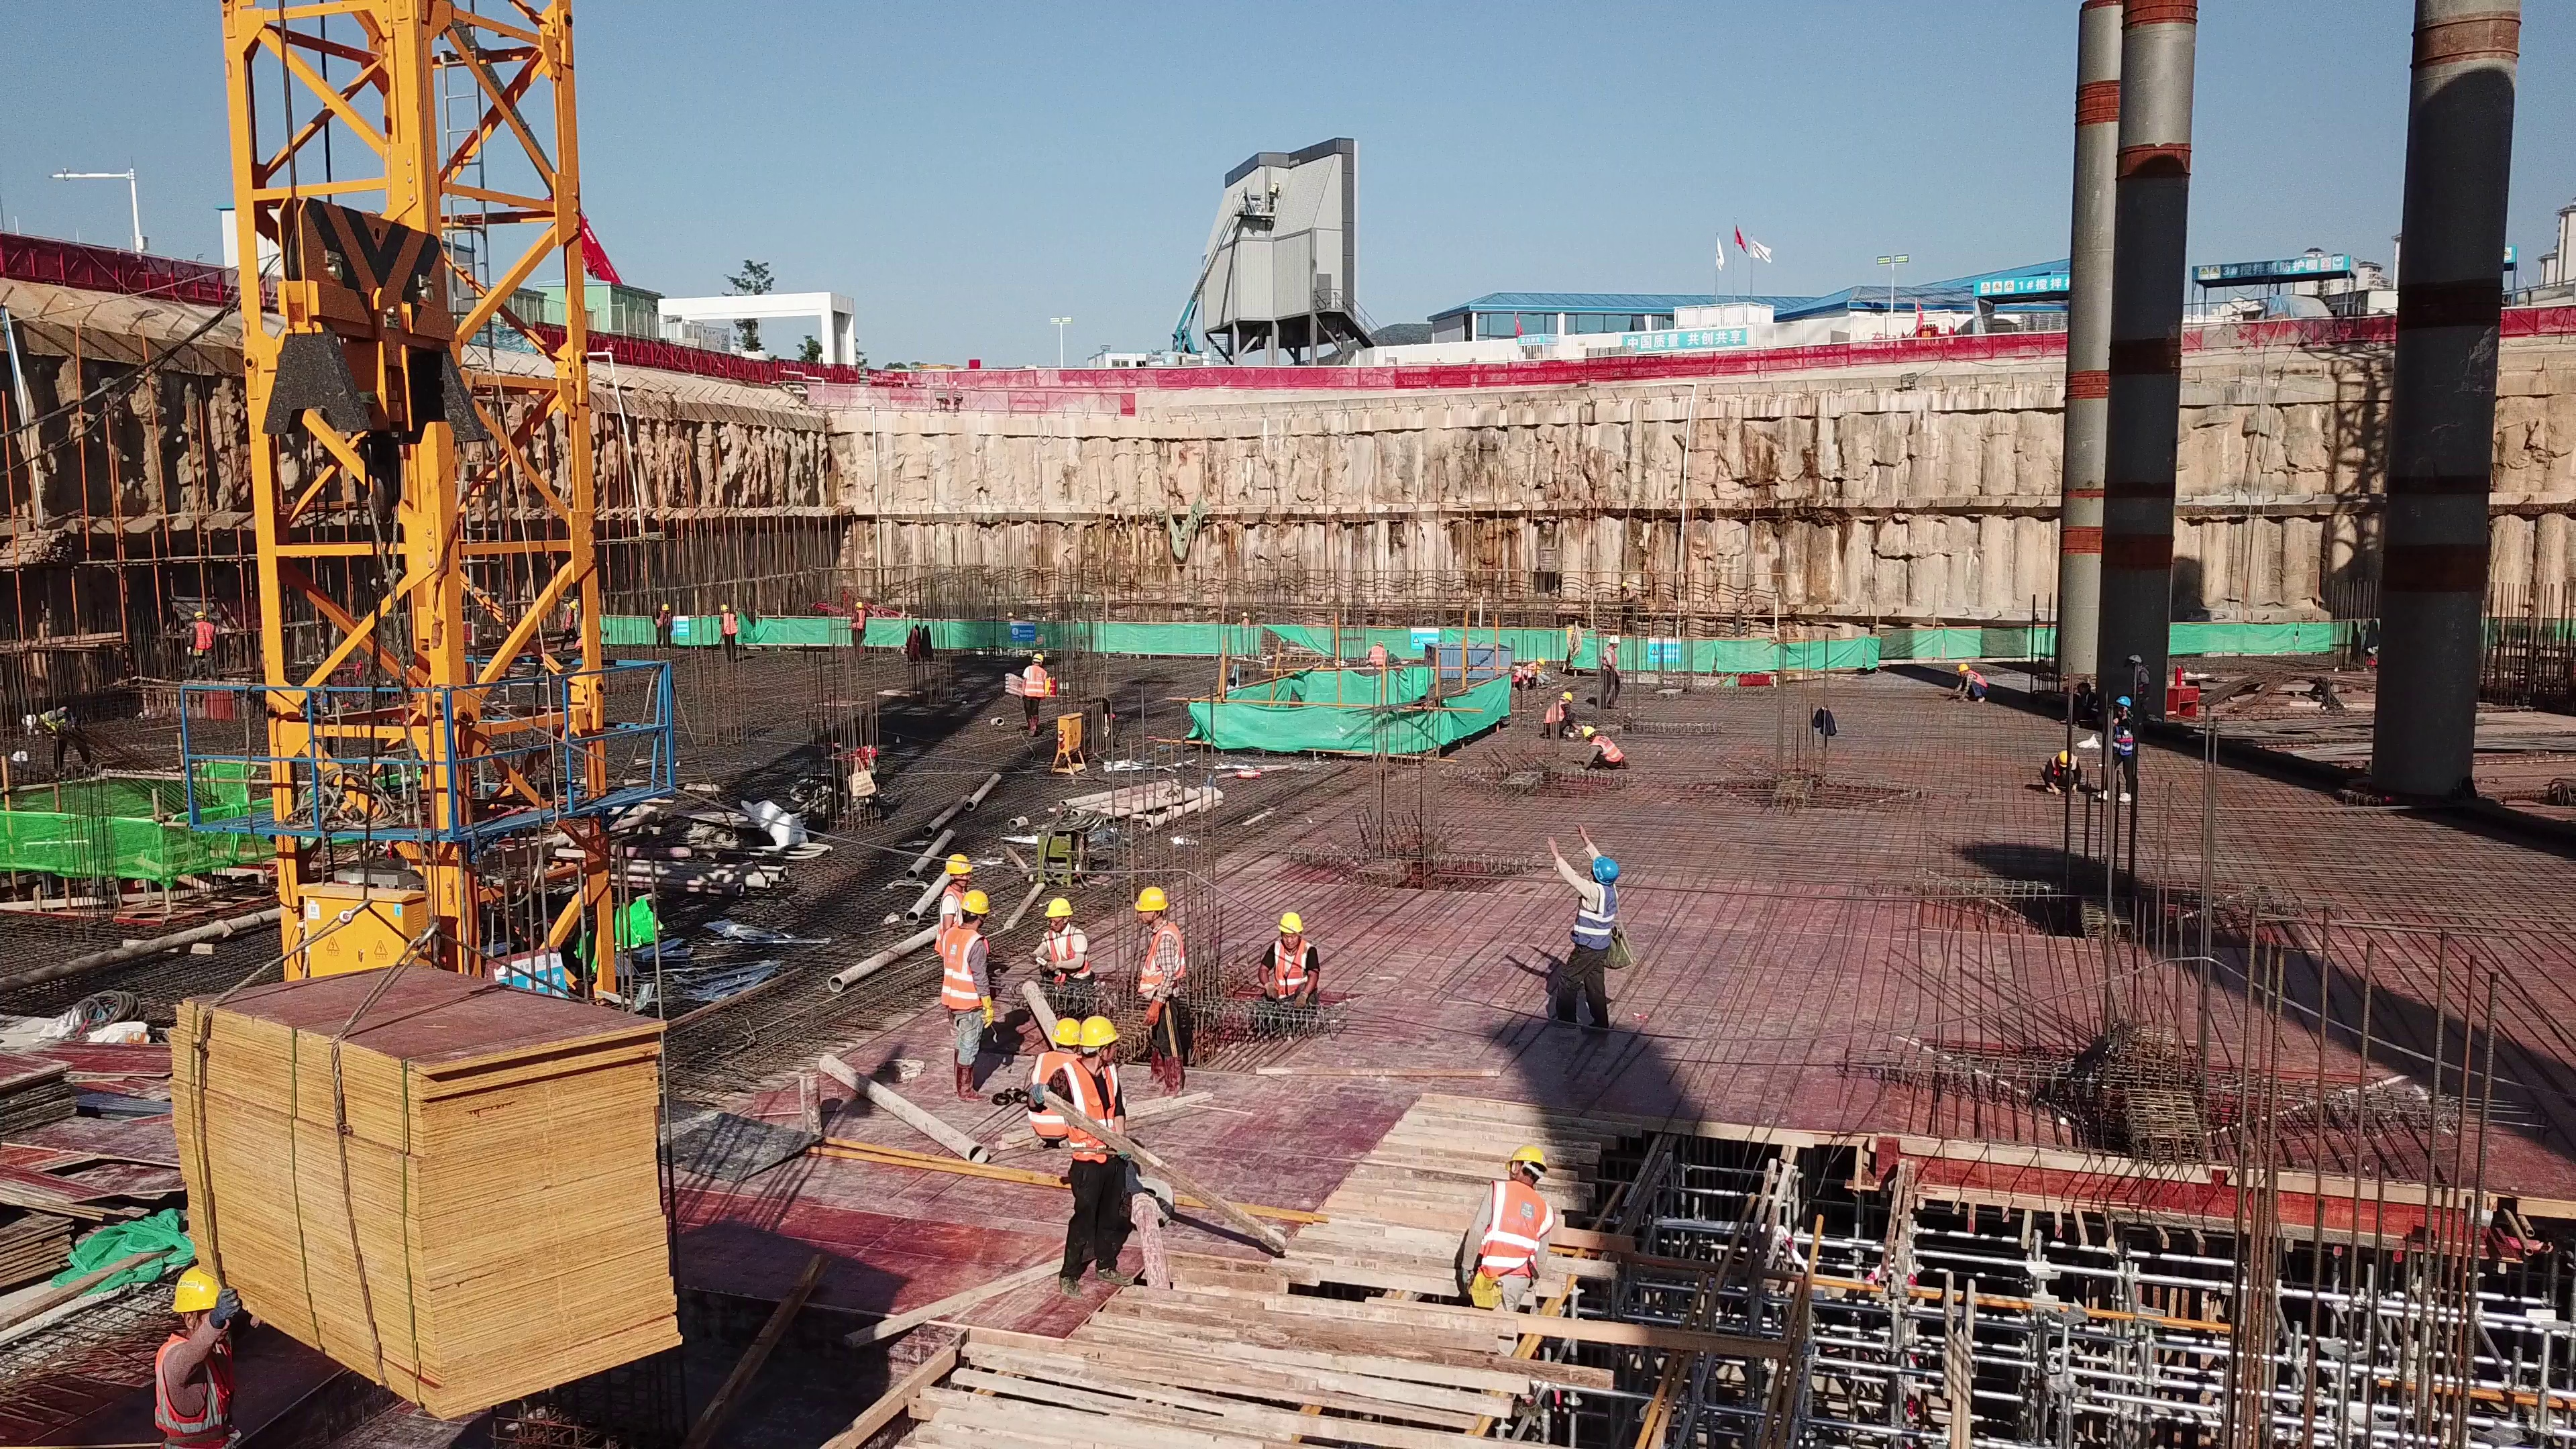helmet: (169, 1268, 232, 1312), (1503, 1142, 1552, 1173), (1074, 1016, 1116, 1046), (1585, 847, 1623, 881), (1133, 884, 1173, 910), (1275, 911, 1302, 942), (1051, 1016, 1076, 1045), (959, 891, 990, 913), (1044, 899, 1072, 919), (946, 853, 971, 873), (2128, 651, 2144, 669), (1559, 686, 1575, 704), (17, 714, 32, 731), (2111, 694, 2132, 705), (1032, 648, 1046, 664), (2059, 750, 2071, 771), (1951, 661, 1968, 672), (1578, 726, 1599, 735), (855, 599, 865, 611), (1537, 655, 1546, 666), (718, 602, 730, 610), (193, 611, 207, 617), (1609, 635, 1619, 643), (660, 604, 671, 610)
person: (146, 1238, 262, 1449), (1537, 816, 1638, 1042), (1466, 1147, 1575, 1337), (1067, 1013, 1140, 1289), (1130, 875, 1199, 1106), (1250, 905, 1337, 1030), (949, 889, 991, 1110), (14, 696, 103, 779), (2097, 681, 2148, 815), (1028, 893, 1095, 996), (1027, 1007, 1075, 1149), (1573, 722, 1642, 782), (1949, 655, 2005, 728), (1015, 647, 1052, 742), (182, 602, 222, 686), (1593, 631, 1631, 712), (839, 600, 879, 663), (2034, 746, 2084, 792), (714, 604, 745, 667), (1544, 688, 1577, 743), (1513, 655, 1555, 692), (645, 602, 674, 651), (557, 600, 582, 658), (937, 852, 975, 890), (1363, 639, 1391, 668), (1614, 578, 1640, 608), (1238, 604, 1254, 626)
vest: (151, 1337, 246, 1432), (1135, 924, 1201, 1009), (1069, 1071, 1126, 1158), (934, 930, 989, 1020), (1490, 1181, 1542, 1264), (1032, 1048, 1077, 1135), (1570, 888, 1616, 957), (1267, 947, 1311, 1004), (1044, 930, 1089, 986), (2107, 716, 2141, 757), (1594, 739, 1622, 767), (1968, 665, 1992, 696), (1600, 649, 1626, 676), (43, 710, 68, 736), (1024, 668, 1044, 701), (191, 624, 211, 649), (1546, 700, 1564, 724), (718, 614, 737, 633), (1519, 663, 1539, 678), (657, 613, 674, 629), (854, 610, 866, 630)
